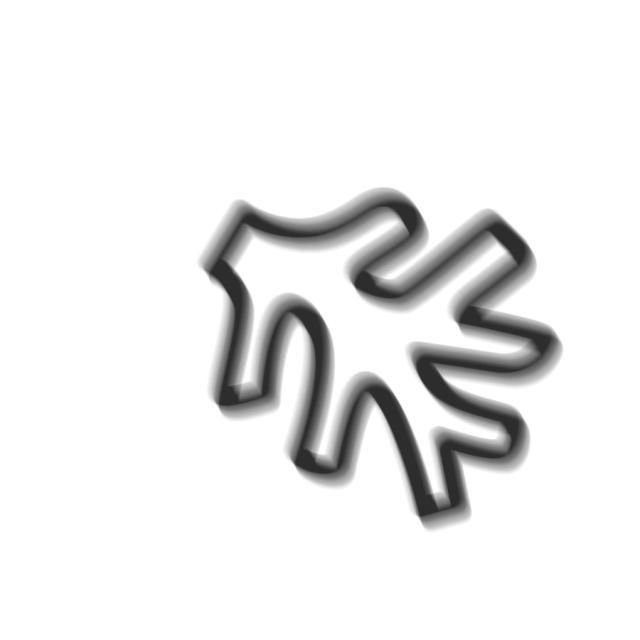coral: (194, 181, 572, 542)
